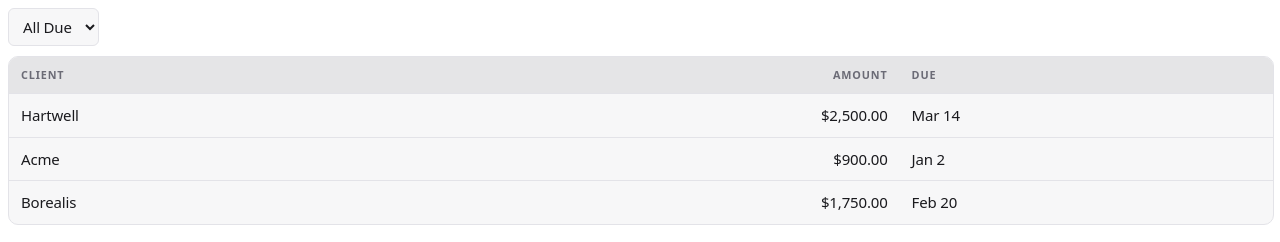
Test: DataTable › offers filter options in the words the column displays
Select "Mar 14" in the dropdown named "Filter by Due": x=54, y=27 [8,8,99,46]
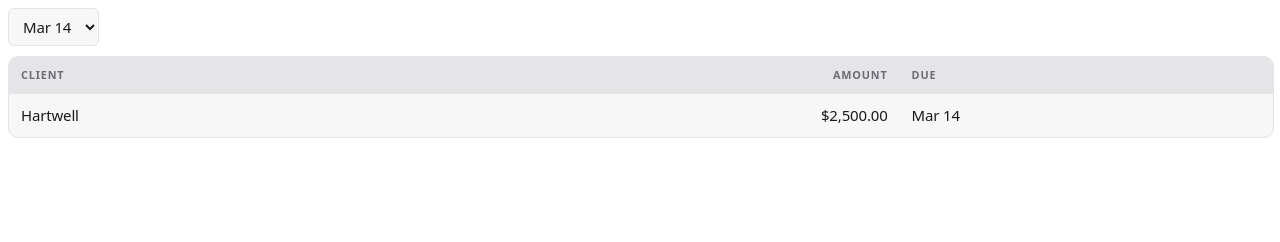
Expected: the text "Hartwell" is shown, [9,94,432,137]
Expected: the text "Acme" is gone
